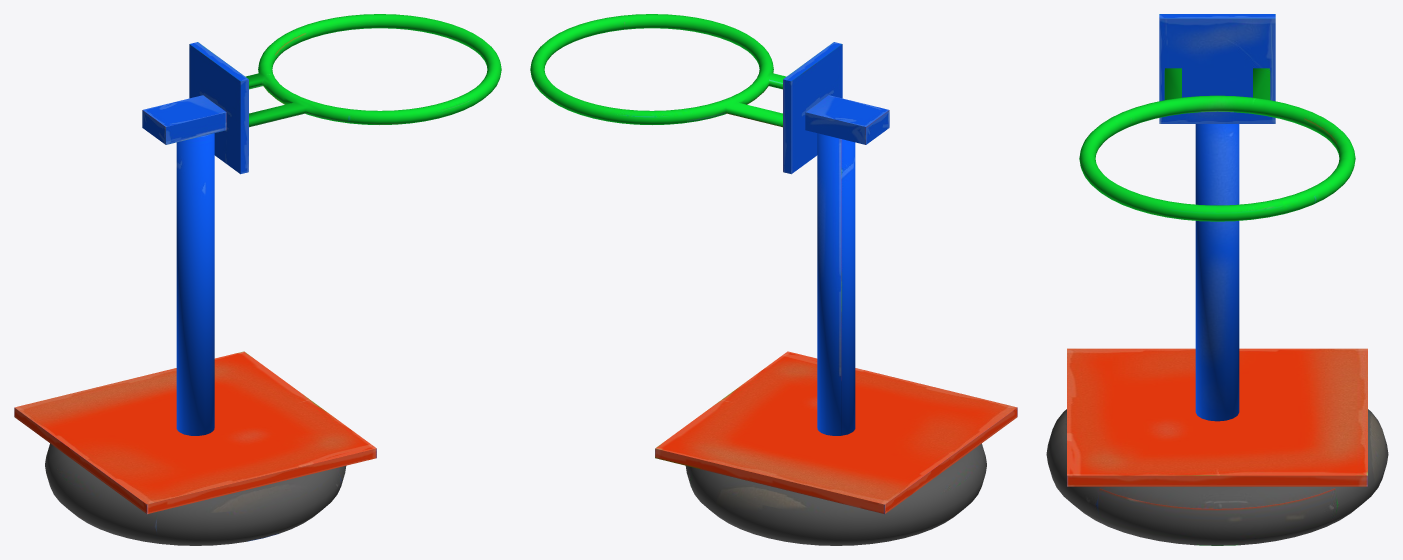
The model's file is goallpostCombined.fbx.
3 views of the same model, side by side, from view 1: azimuth 30°, elevation 25°; view 2: azimuth 150°, elevation 25°; view 3: azimuth 270°, elevation 25° (orthographic). The views are drawn at different scales.
Visible parts, largest first — view 1: goalpost.001; view 2: goalpost.001; view 3: goalpost.001.
Part boxes in pixels (bbox=[...]): goalpost.001: bbox=[14, 14, 501, 545]; goalpost.001: bbox=[530, 14, 1017, 545]; goalpost.001: bbox=[1046, 14, 1388, 545].
Bounding box in the file's own units: 402 × 389 × 250.
